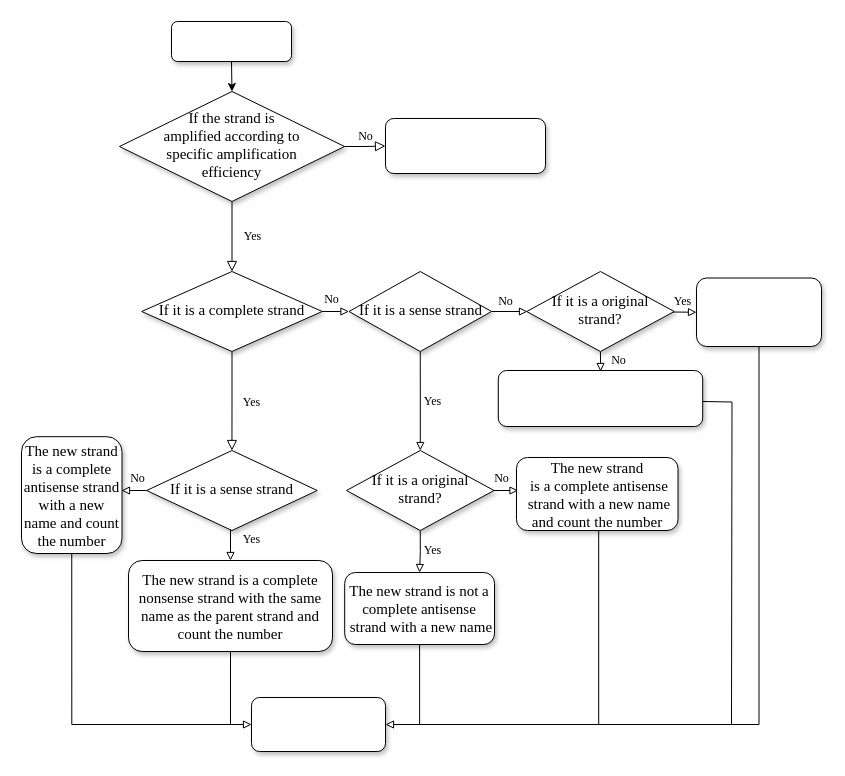
This 845x776 diagram has some shape labels left out. The shapes that lost their labels are listed below. From the top down, each one's centre as x and y in pixels, then its label:
(232,42): Get one strand of the parent DNA
(466,147): Put the strand and "None" in the child node
(760,313): The new strand is not a complete sense strand with a new name
(601,400): The new strand is complete sense strand with a new name and count the number
(319,725): Put the strand and new strand in the child node
